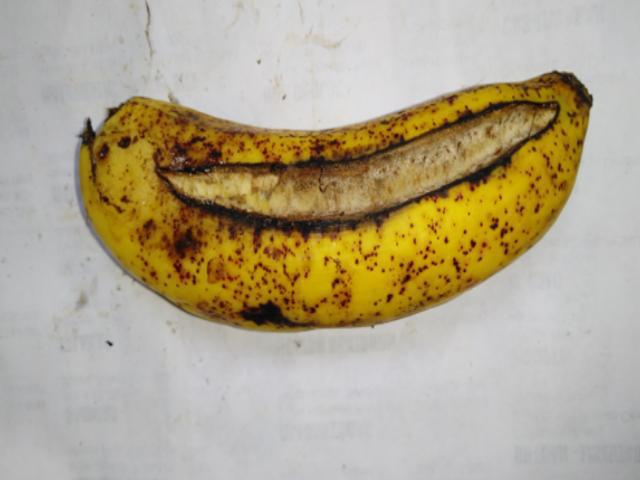ripe: (80, 49, 615, 357)
rotten: (177, 76, 580, 255)
